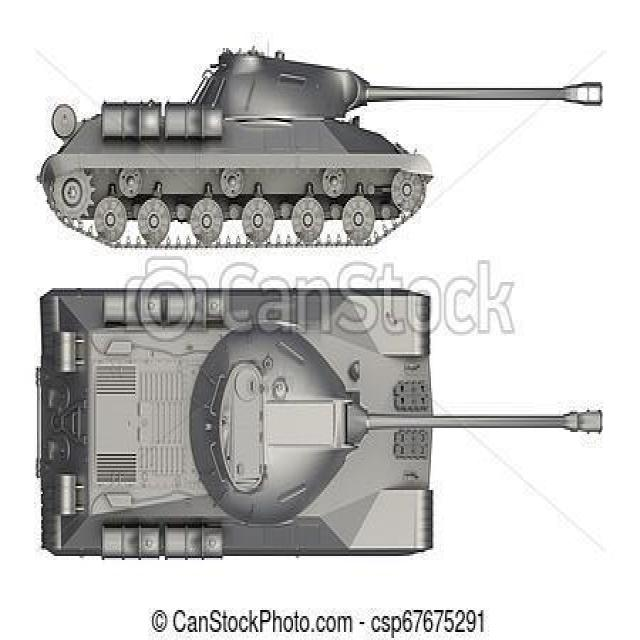Tanks: (21, 279, 613, 571), (27, 18, 610, 264)
